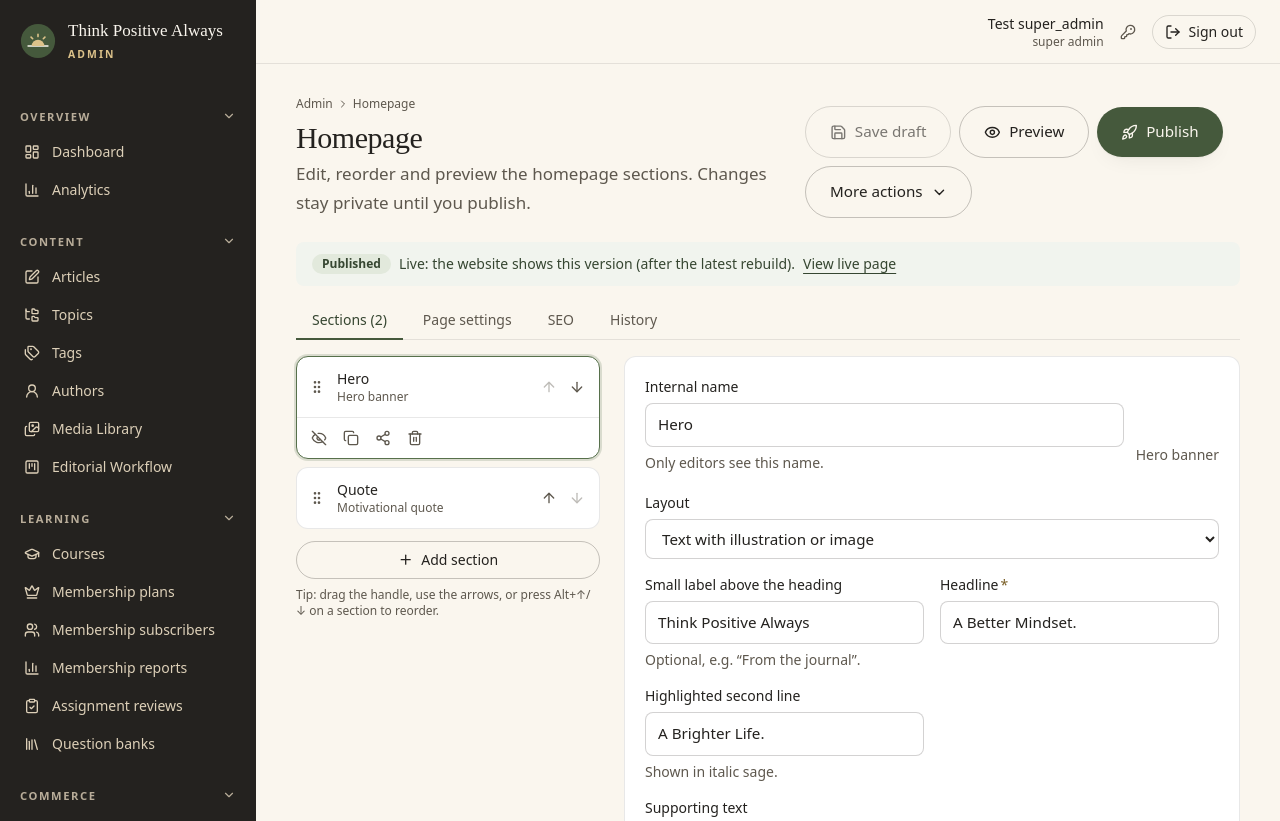
Test: homepage builder › shows server validation next to the field and flags the section
Expected: the heading "Homepage" is shown, [296,121,422,154]
Expected: the list named "Page sections" is shown, [296,356,600,529]
Clear the field labelled "Headline*" at (1080, 622), box [940,601,1219,644]
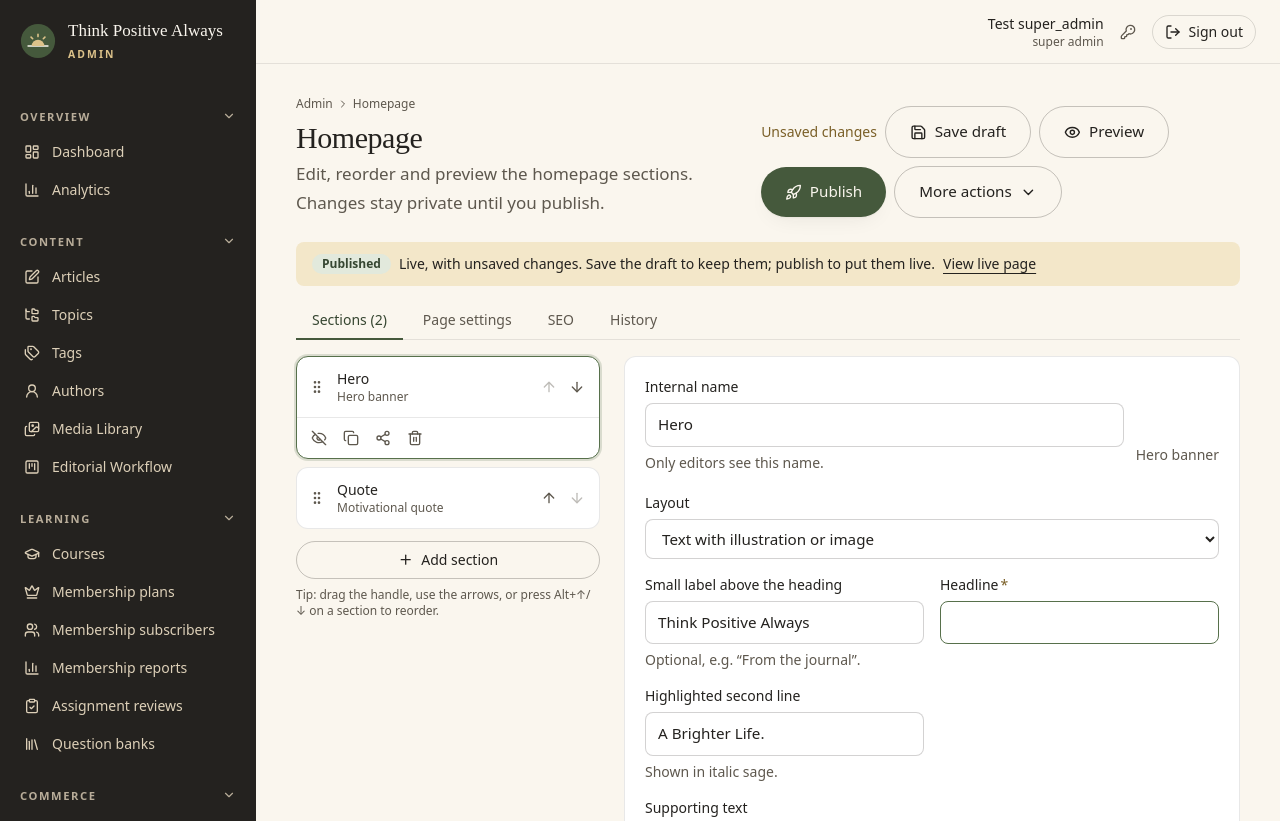
Click the button "Save draft" at (958, 132), box [885,106,1031,158]
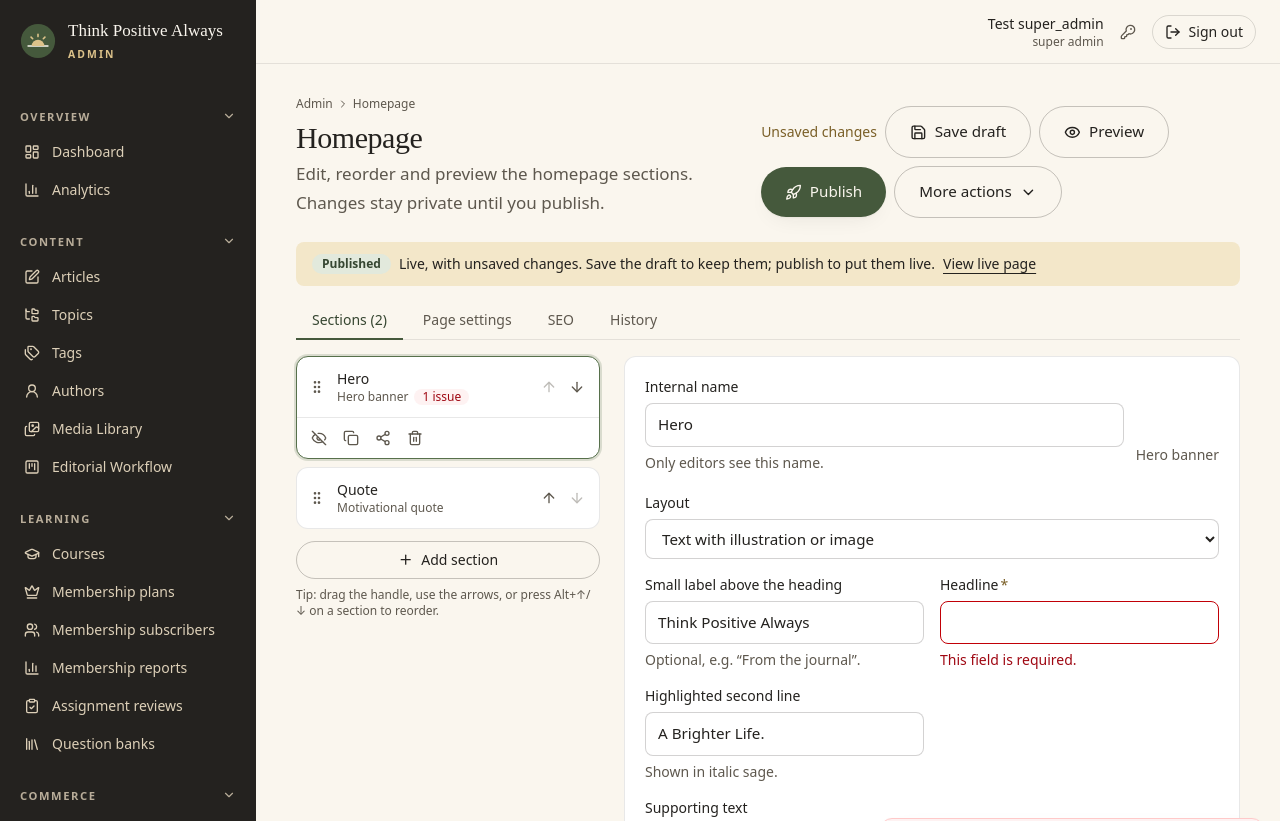
Expected: the text "This field is required." is shown, [940,650,1077,669]
Expected: the text "1 issue" is shown, [414,389,469,405]
